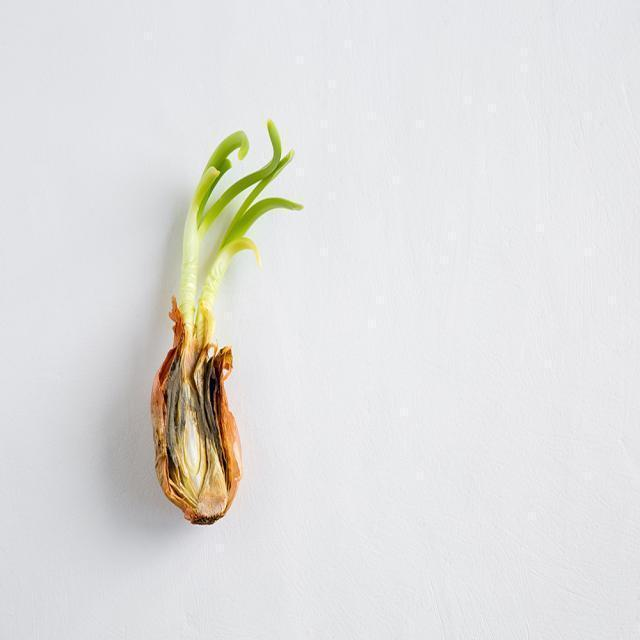Onion: (181, 117, 308, 348), (153, 299, 244, 524)
